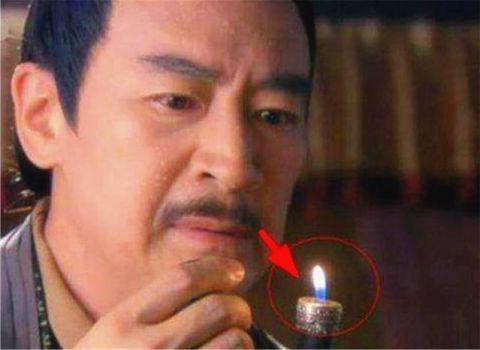fire: (311, 261, 334, 308)
